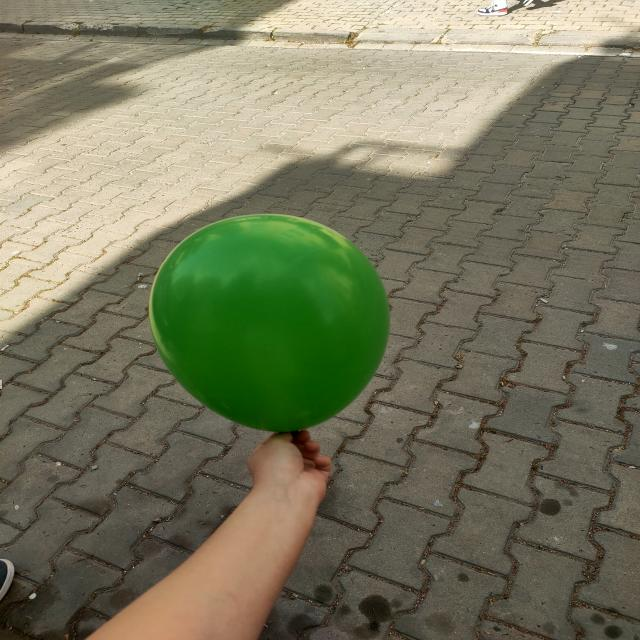green: (151, 215, 393, 434)
